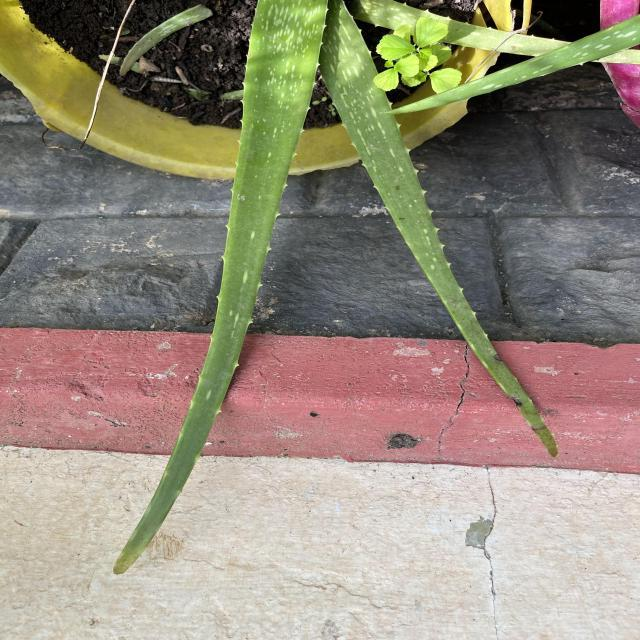Aloe vera: (106, 0, 334, 578)
